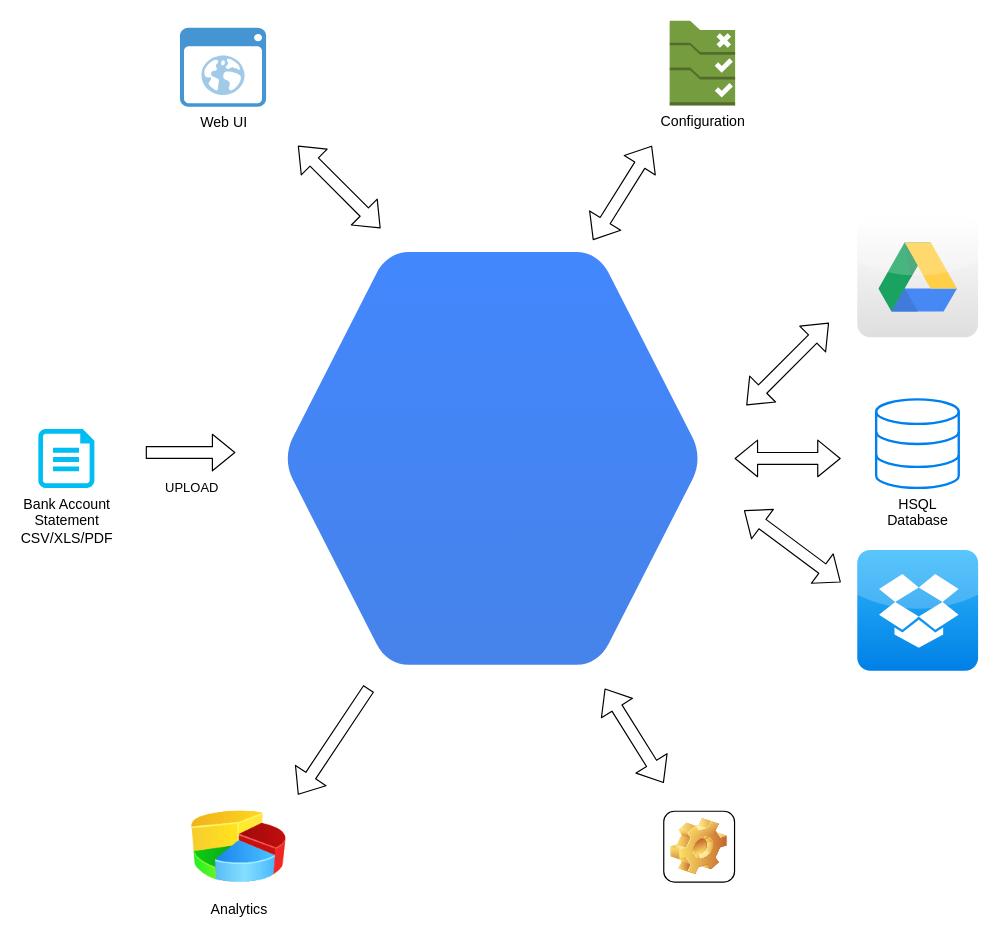
This 999x939 diagram has some shape labels left out. The centre of each missing label's shape, as x and y in pixels:
"AI" goes at (x=699, y=846).
"Statements Manager" goes at (x=492, y=457).
